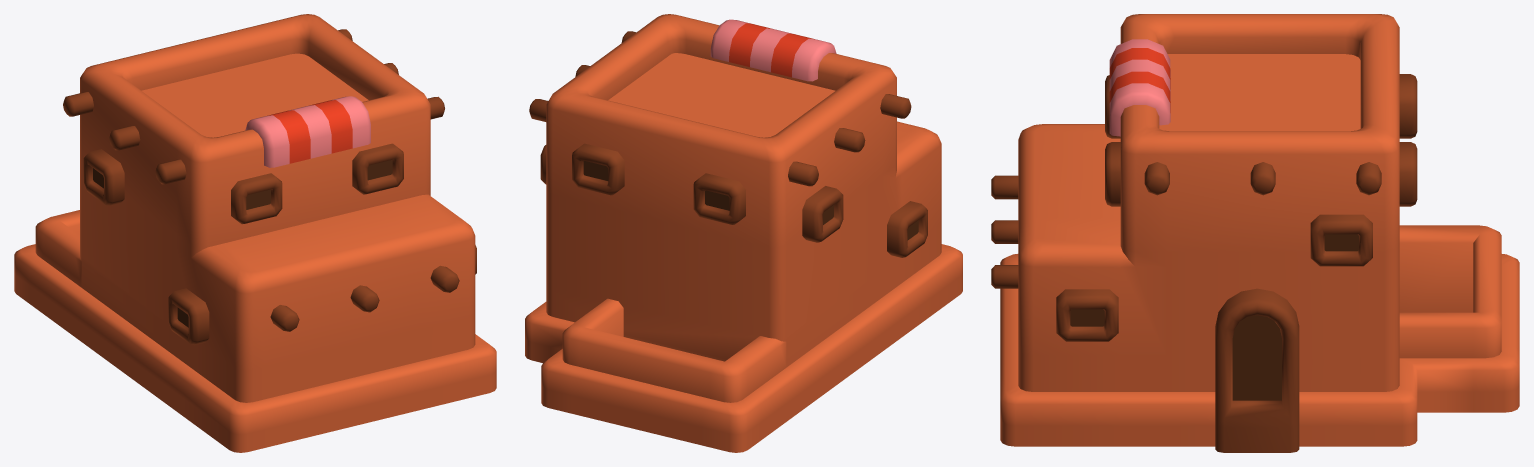
File: house_large.obj
The picture shows the model from 3 angles, left to right: view 1: azimuth 30°, elevation 25°; view 2: azimuth 150°, elevation 25°; view 3: azimuth 270°, elevation 25°; orthographic projection. The views are drawn at different scales.
Parts seen in each view (by area): view 1: house_large; view 2: house_large; view 3: house_large.
Part boxes in pixels (box(x1,y1,x2,y2)): house_large: box(14, 14, 496, 452); house_large: box(525, 14, 962, 452); house_large: box(991, 14, 1519, 452).
Size of the model in its own units: 5.03 by 4.51 by 7.04.
